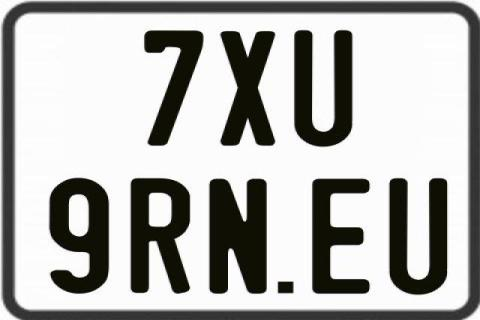0: (144, 30, 206, 146), (46, 177, 106, 296)
E: (309, 178, 367, 294)
N: (209, 178, 267, 294)
R: (131, 177, 195, 293)
U: (386, 177, 448, 297), (291, 28, 351, 146)
X: (221, 31, 279, 148)
